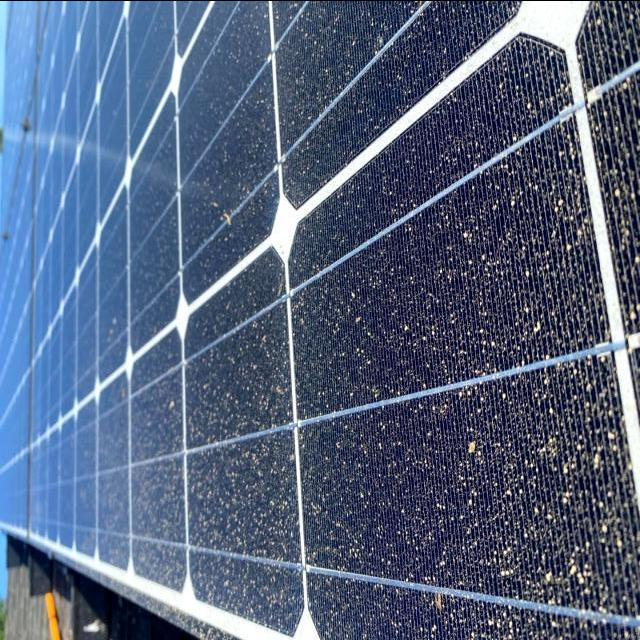soiled: (3, 0, 638, 625)
